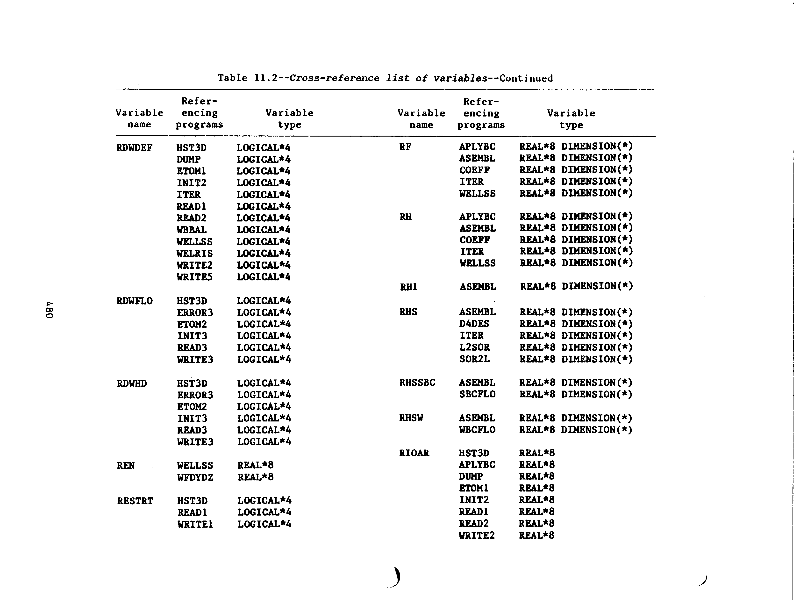table: (111, 88, 669, 600)
